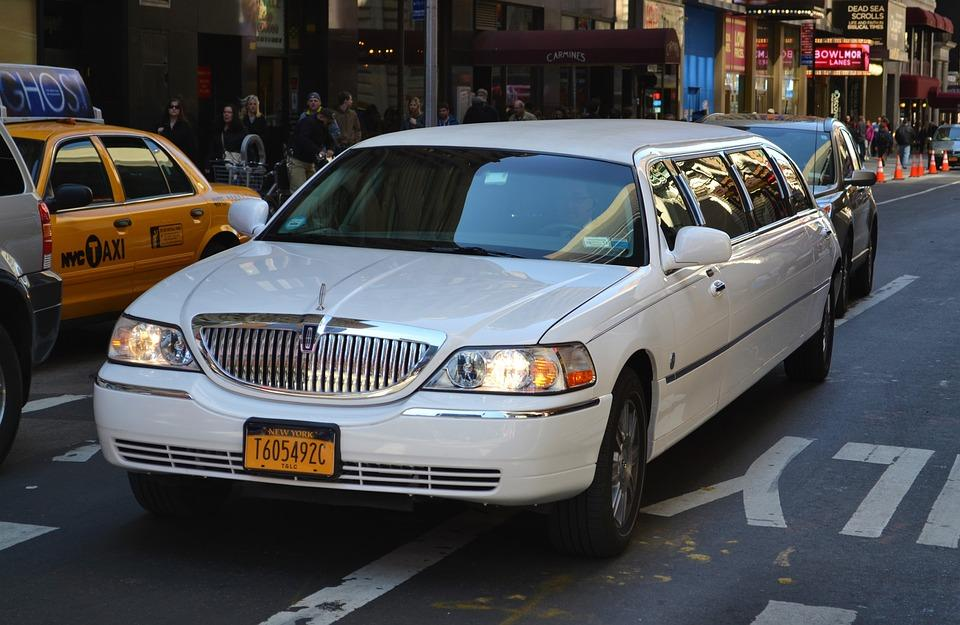lincoln: (313, 281, 331, 310)
